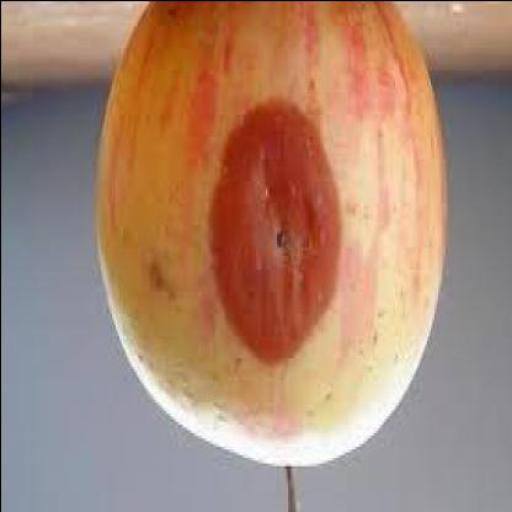biodegradable: (95, 2, 450, 468)
